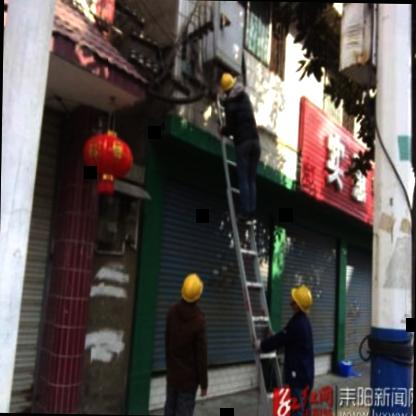helmet: (178, 269, 206, 311), (290, 280, 314, 316), (218, 70, 241, 102)
